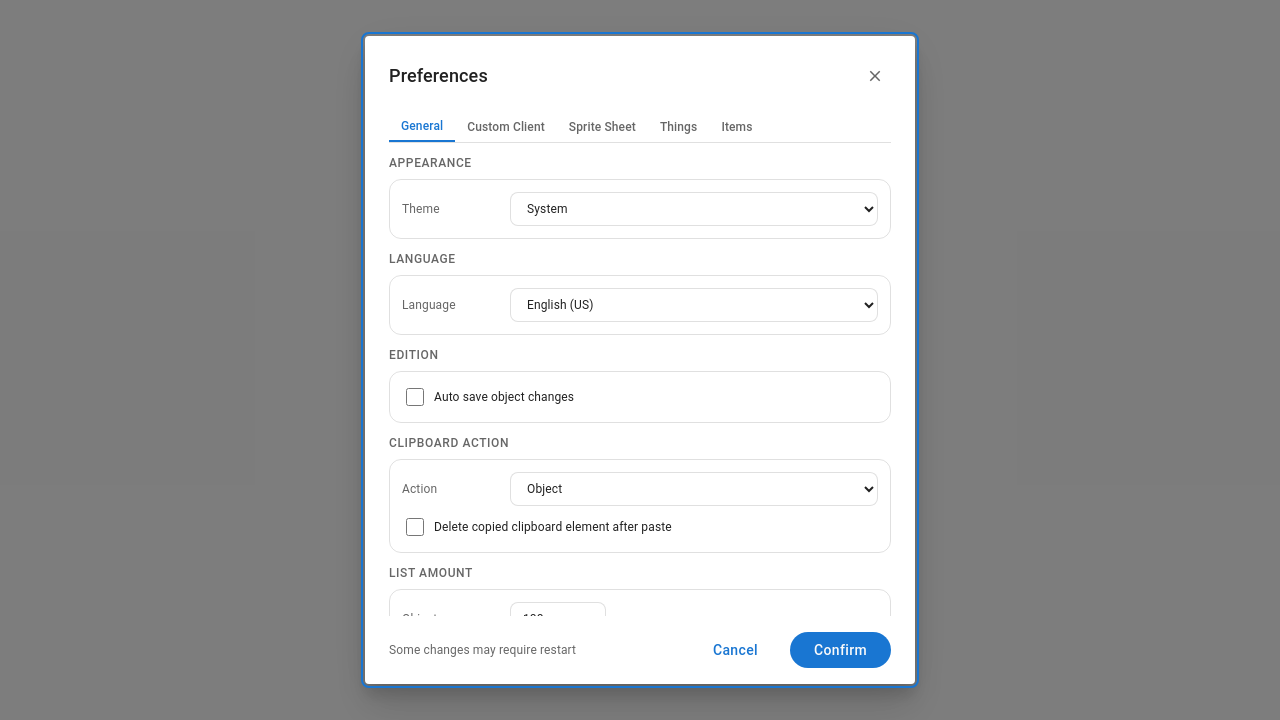
Test: PreferencesDialog › Sprite Sheet tab shows radio options (None, Only Patterns, All Properties)
Click the button "Sprite Sheet".
click(602, 127)  # box [557,112,648,142]
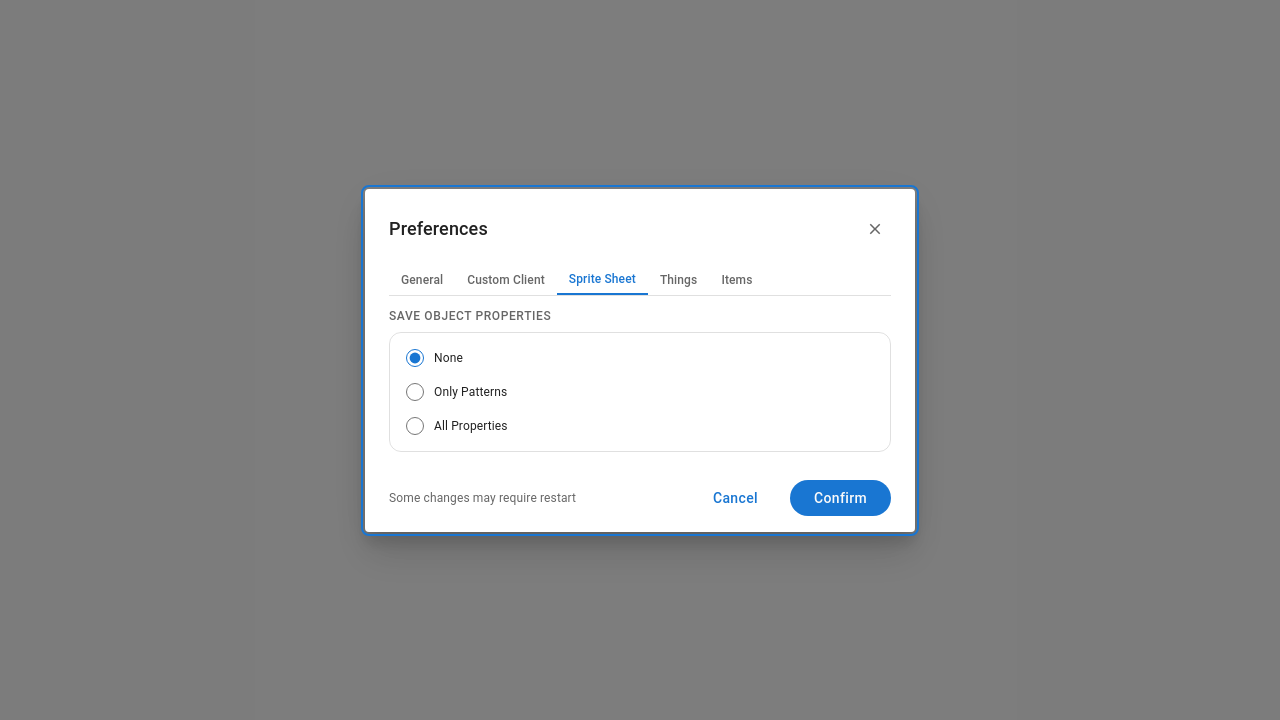
Check: the text "Save Object Properties" is shown, box [389,308,551,322]
Check: the text "None" is shown, box [434,350,463,366]
Check: the text "Only Patterns" is shown, box [434,384,507,400]
